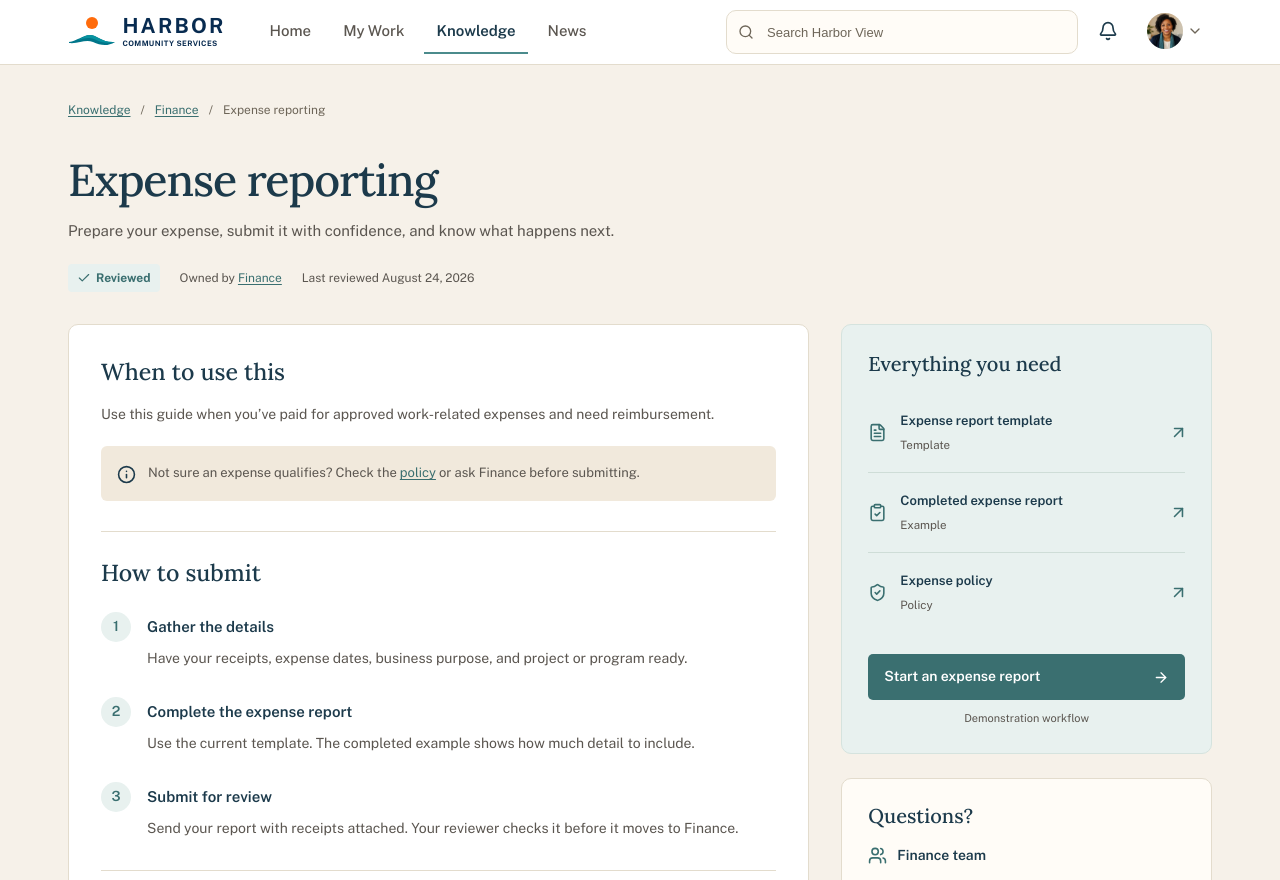
Test: Knowledge journeys › opens the expense template preview and returns to the complete guide
Click the link "Expense report template Template": (976, 421) [868,413,1188,452]
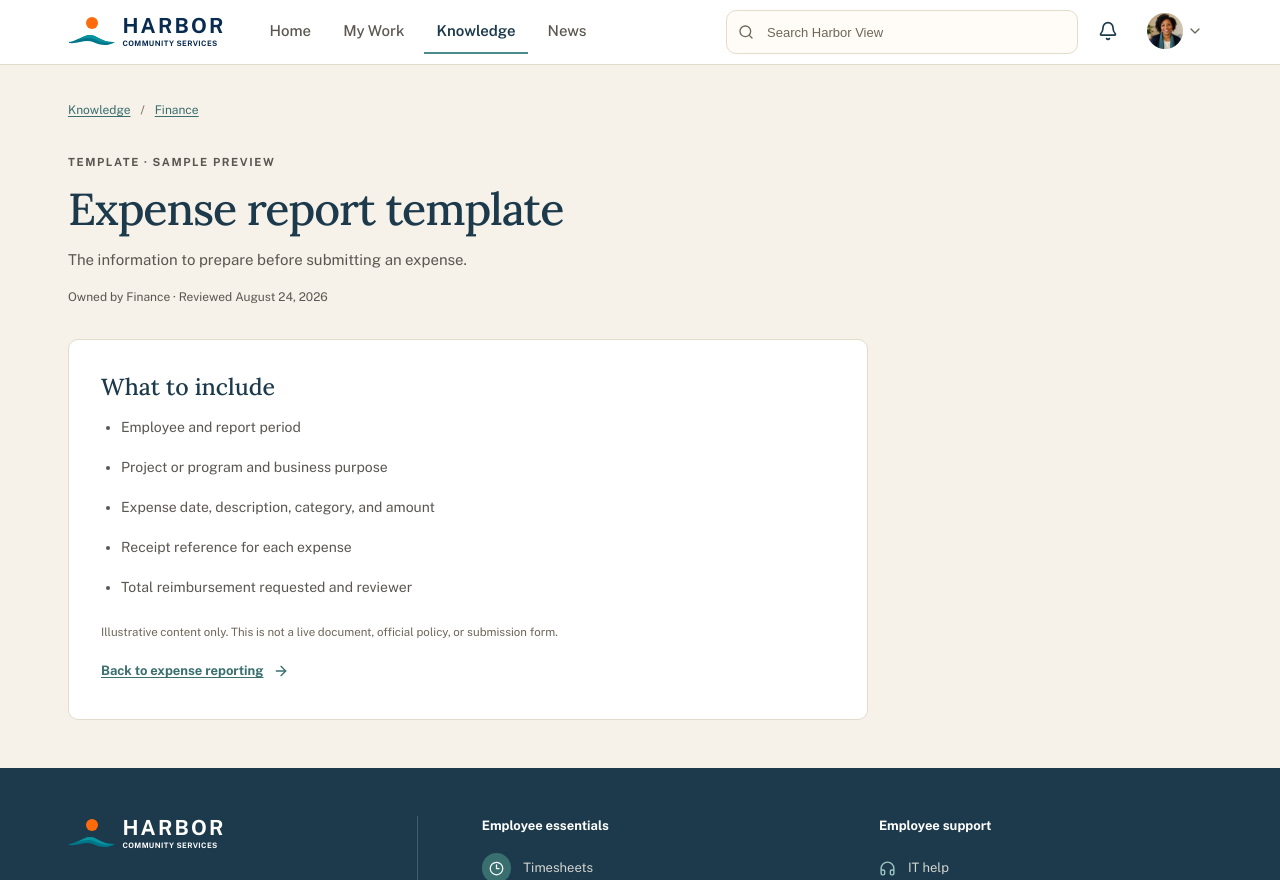
Check: the heading "Expense report template" is shown, box [68,180,563,237]
Check: the list item "Employee and report period" is shown, box [121,419,301,435]
Check: the text "This is not a live document" is shown, box [101,625,558,639]
Click the link "Back to expense reporting": (195, 671) [101,663,290,679]
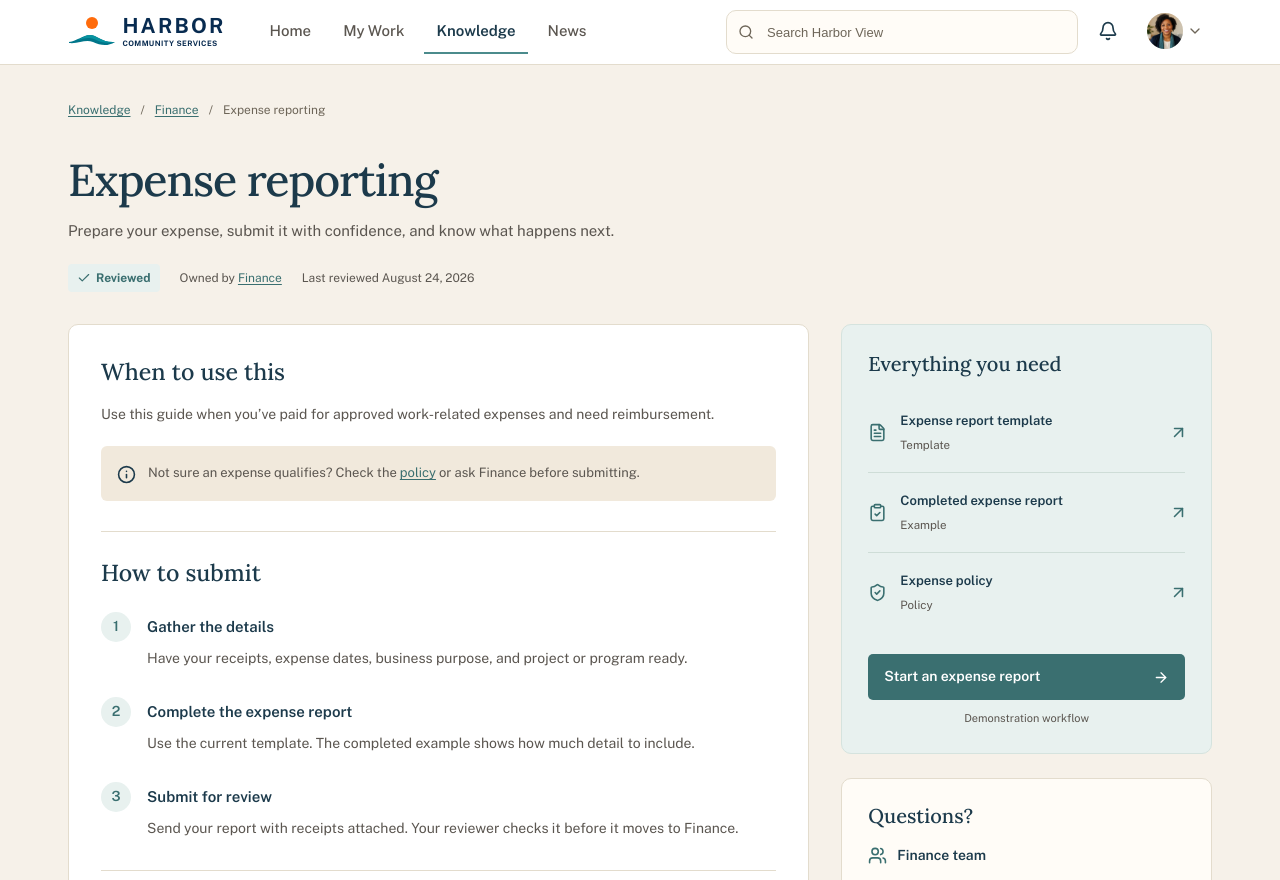
Check: the heading "How to submit" is shown, box [101,558,261,587]
